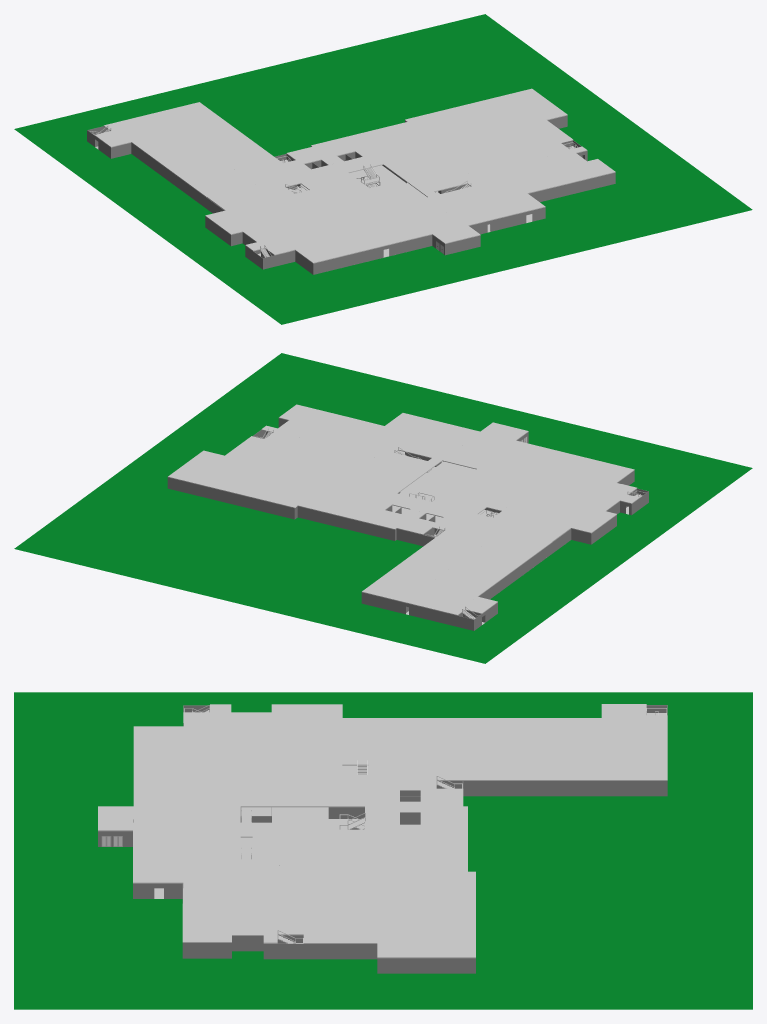
The model's file is usuLibraryV2.fbx.
3 views of the same model, one above another, from view 1: azimuth 30°, elevation 25°; view 2: azimuth 150°, elevation 25°; view 3: azimuth 270°, elevation 25° (orthographic). The views are drawn at different scales.
Visible parts, largest first — view 1: LandScape, EverythingElseFloor.003, BuildingShell, BarnFloor.001, TestingCenterFloor.001, StaffArea1Floor.001, InnovationHubFloor.001, StaffArea3Floor.001, CafeFloor.001, EverythingElseFloor, 154Floor.001, AuditoriumFloor.001 (+4 smaller); view 2: LandScape, EverythingElseFloor.003, BuildingShell, BarnFloor.001, TestingCenterFloor.001, StaffArea1Floor.001, InnovationHubFloor.001, StaffArea3Floor.001, EverythingElseFloor, CafeFloor.001, 154Floor.001, 122Floor.001 (+4 smaller); view 3: LandScape, EverythingElseFloor.003, BuildingShell, BarnFloor.001, TestingCenterFloor.001, StaffArea1Floor.001, InnovationHubFloor.001, StaffArea3Floor.001, CafeFloor.001, EverythingElseFloor, 122Floor.001, 154Floor.001 (+13 smaller).
Part boxes in pixels (left/top/right/bottom): LandScape: left=14, top=14, right=752, bottom=324; EverythingElseFloor.003: left=205, top=146, right=615, bottom=263; BuildingShell: left=87, top=115, right=615, bottom=274; BarnFloor.001: left=405, top=88, right=567, bottom=145; TestingCenterFloor.001: left=94, top=114, right=227, bottom=181; StaffArea1Floor.001: left=446, top=120, right=573, bottom=170; InnovationHubFloor.001: left=151, top=102, right=260, bottom=184; StaffArea3Floor.001: left=323, top=122, right=440, bottom=158; CafeFloor.001: left=450, top=193, right=545, bottom=225; EverythingElseFloor: left=258, top=165, right=439, bottom=256; 154Floor.001: left=234, top=158, right=299, bottom=187; AuditoriumFloor.001: left=353, top=222, right=427, bottom=249; LandScape: left=14, top=353, right=752, bottom=663; EverythingElseFloor.003: left=261, top=404, right=637, bottom=541; BuildingShell: left=167, top=418, right=648, bottom=630; BarnFloor.001: left=168, top=450, right=330, bottom=508; TestingCenterFloor.001: left=411, top=547, right=531, bottom=615; StaffArea1Floor.001: left=225, top=432, right=360, bottom=480; InnovationHubFloor.001: left=362, top=531, right=507, bottom=604; StaffArea3Floor.001: left=297, top=481, right=399, bottom=526; EverythingElseFloor: left=392, top=450, right=498, bottom=536; CafeFloor.001: left=385, top=413, right=479, bottom=444; 154Floor.001: left=439, top=517, right=504, bottom=545; 122Floor.001: left=341, top=454, right=408, bottom=480; LandScape: left=14, top=692, right=752, bottom=1009; EverythingElseFloor.003: left=133, top=704, right=430, bottom=943; BuildingShell: left=98, top=705, right=667, bottom=973; BarnFloor.001: left=377, top=871, right=475, bottom=958; TestingCenterFloor.001: left=453, top=704, right=667, bottom=746; StaffArea1Floor.001: left=275, top=875, right=377, bottom=943; InnovationHubFloor.001: left=399, top=746, right=667, bottom=780; StaffArea3Floor.001: left=377, top=814, right=467, bottom=871; CafeFloor.001: left=133, top=830, right=183, bottom=883; EverythingElseFloor: left=240, top=765, right=368, bottom=859; 122Floor.001: left=272, top=842, right=335, bottom=874; 154Floor.001: left=383, top=751, right=453, bottom=780.
Bounding box in the file's own units: 13205 × 725 × 12985.
